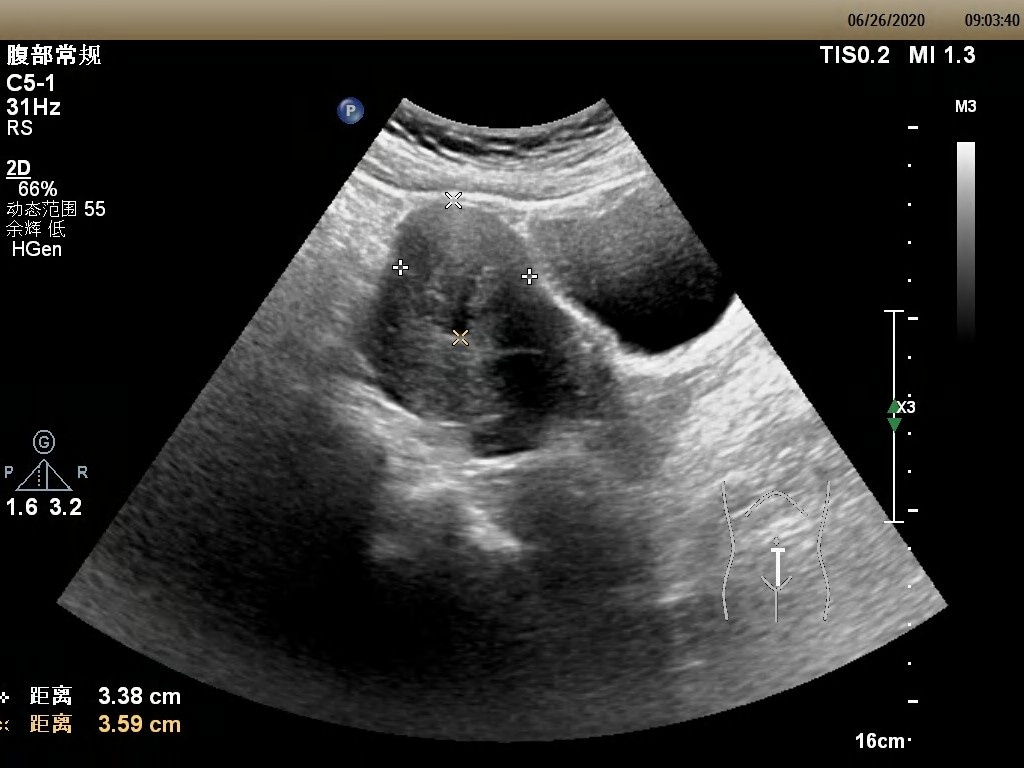肌瘤: (394, 207, 527, 339)
